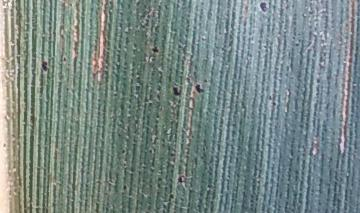tarspot: (258, 1, 268, 13), (171, 85, 181, 97), (194, 82, 204, 94), (40, 60, 49, 72), (175, 175, 184, 184), (151, 45, 159, 54), (167, 192, 176, 200), (61, 56, 69, 64), (270, 99, 277, 107), (122, 183, 128, 192), (267, 94, 274, 101), (293, 41, 300, 48), (147, 148, 154, 154), (120, 148, 127, 154)
